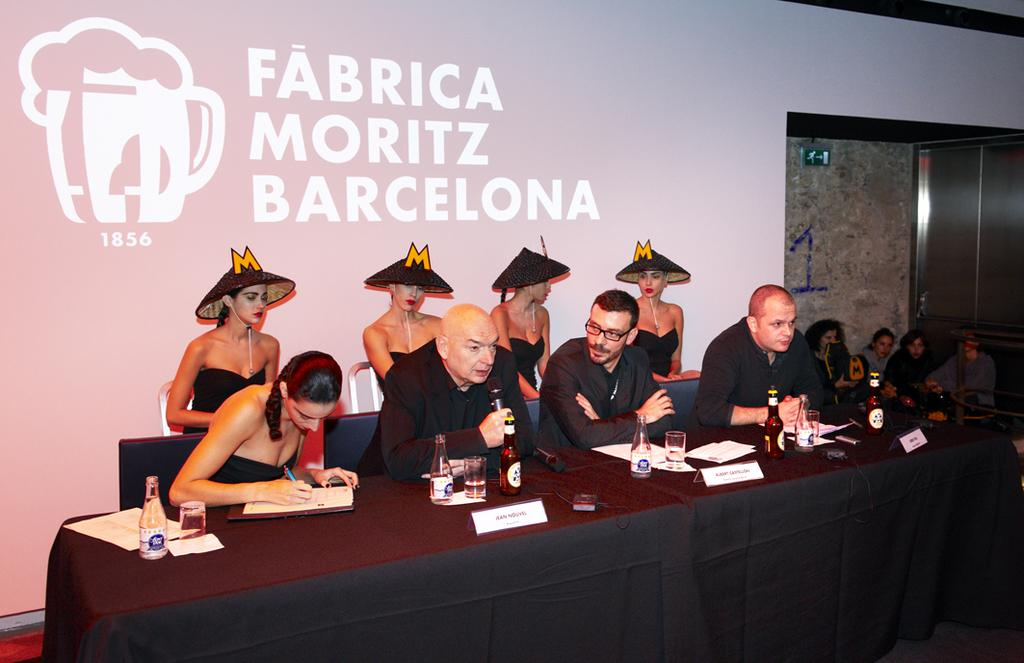Hat: (196, 245, 292, 321), (365, 241, 449, 294), (492, 243, 570, 293), (612, 238, 690, 282), (802, 321, 844, 347)
